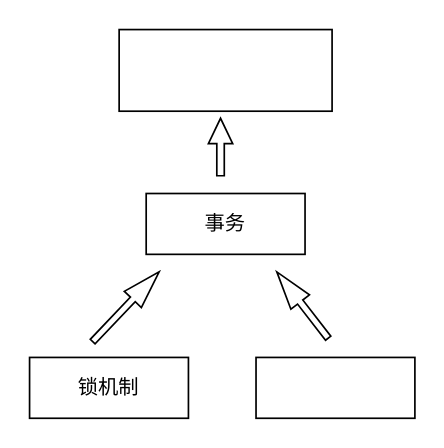
Image size: 444x448. Some labels were removed from this diagram. The centre of each missing label's shape, as x and y in pixels:
MVCC: (x=334, y=387)
并发操作过程中保证数据的隔离性、一致性: (x=224, y=69)
